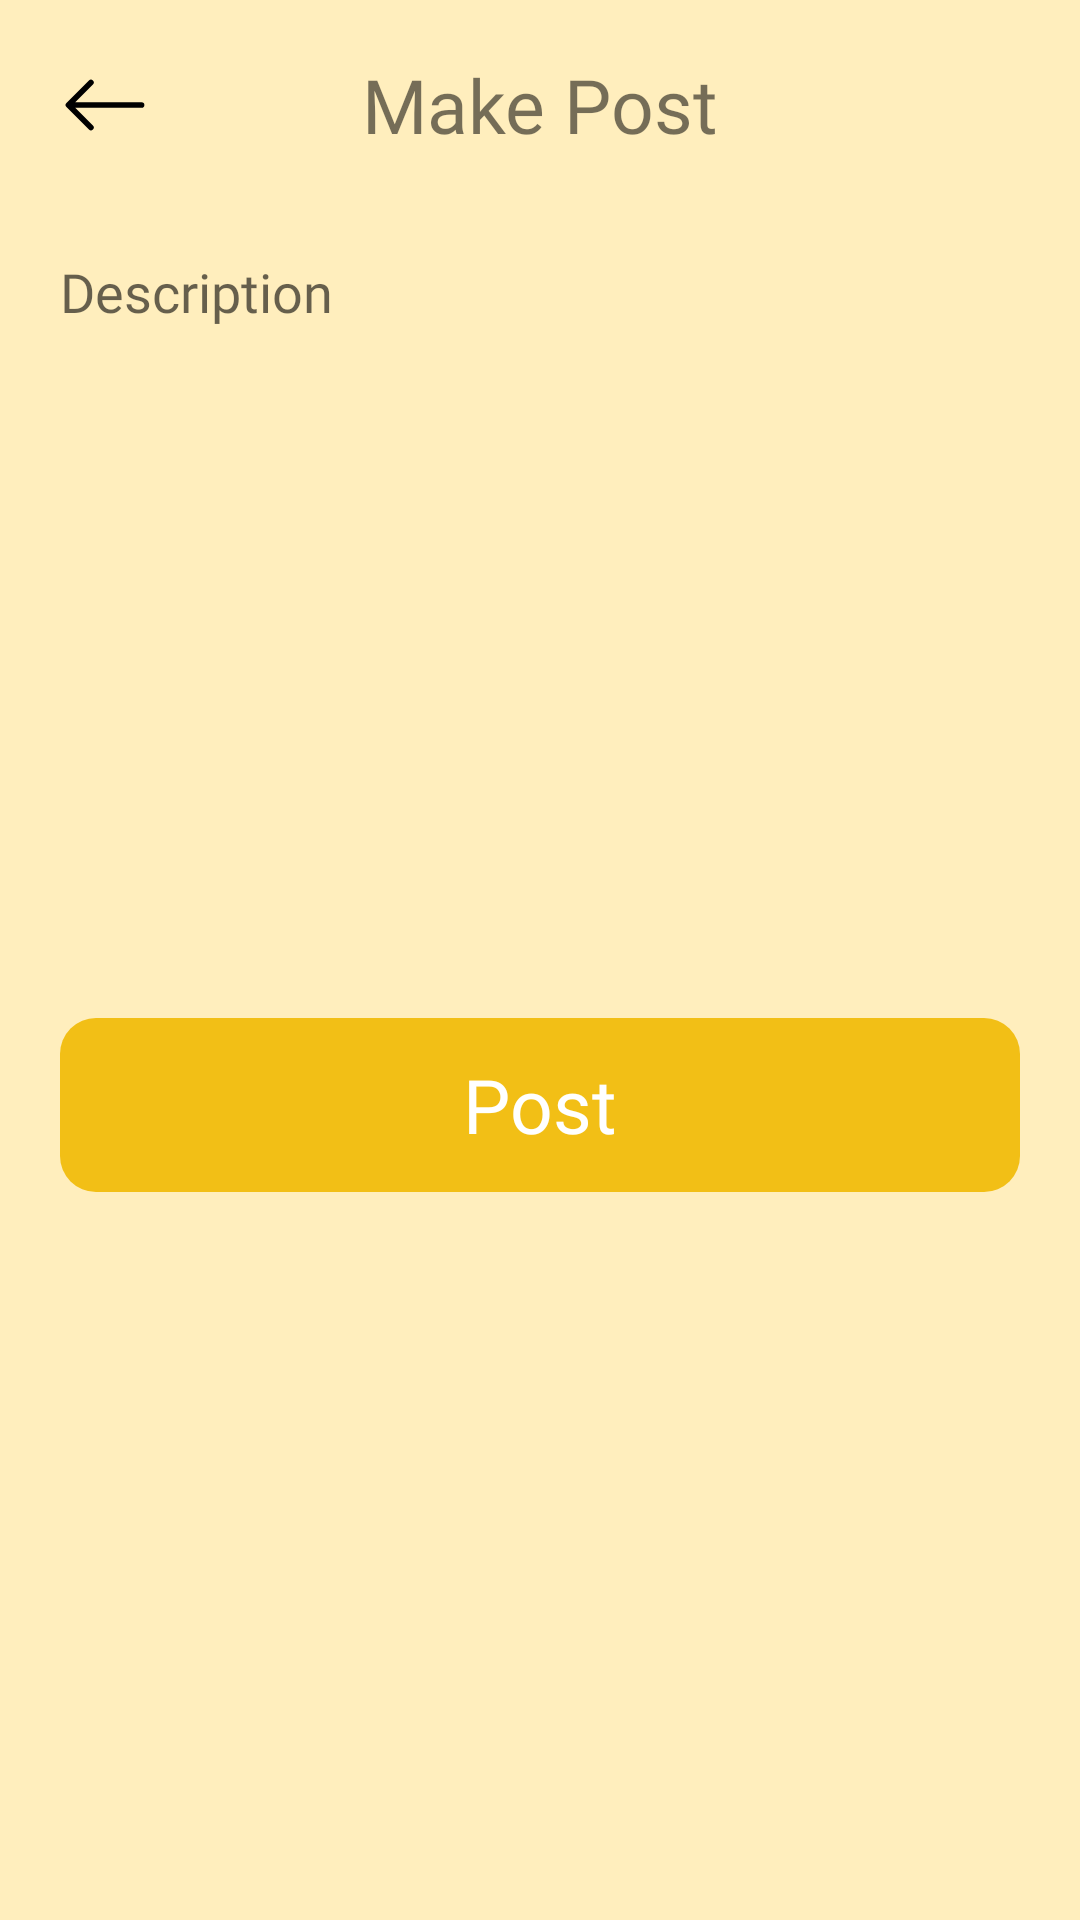

Named icons in this screenshot (1080px×1920px) and their bounding boxes, box=[x1, y1, x2, y2]:
arrow left: box=[65, 79, 145, 131]
